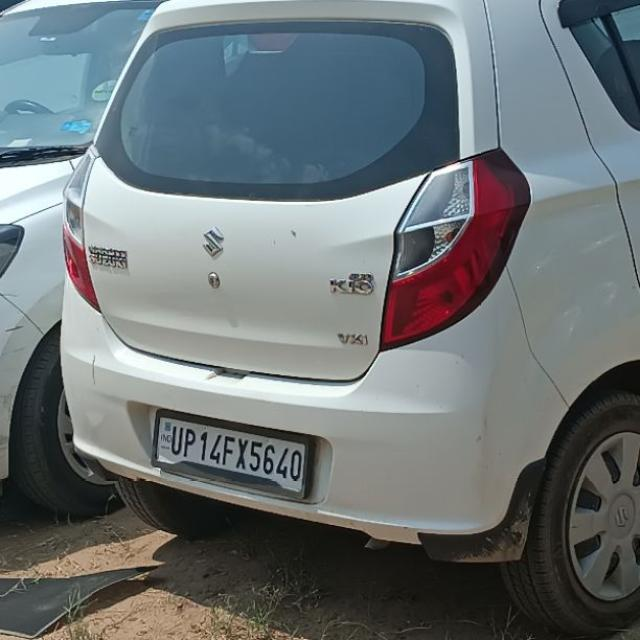license_plate: (150, 408, 312, 499)
